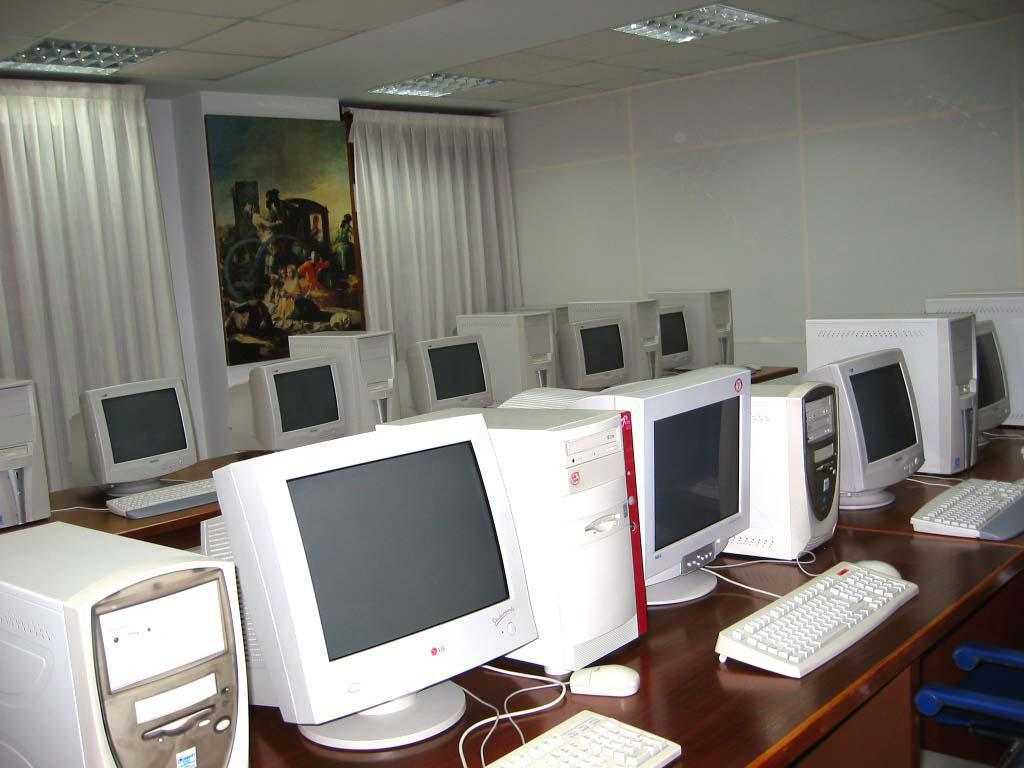Ventana: (11, 103, 166, 374), (358, 124, 505, 307)
